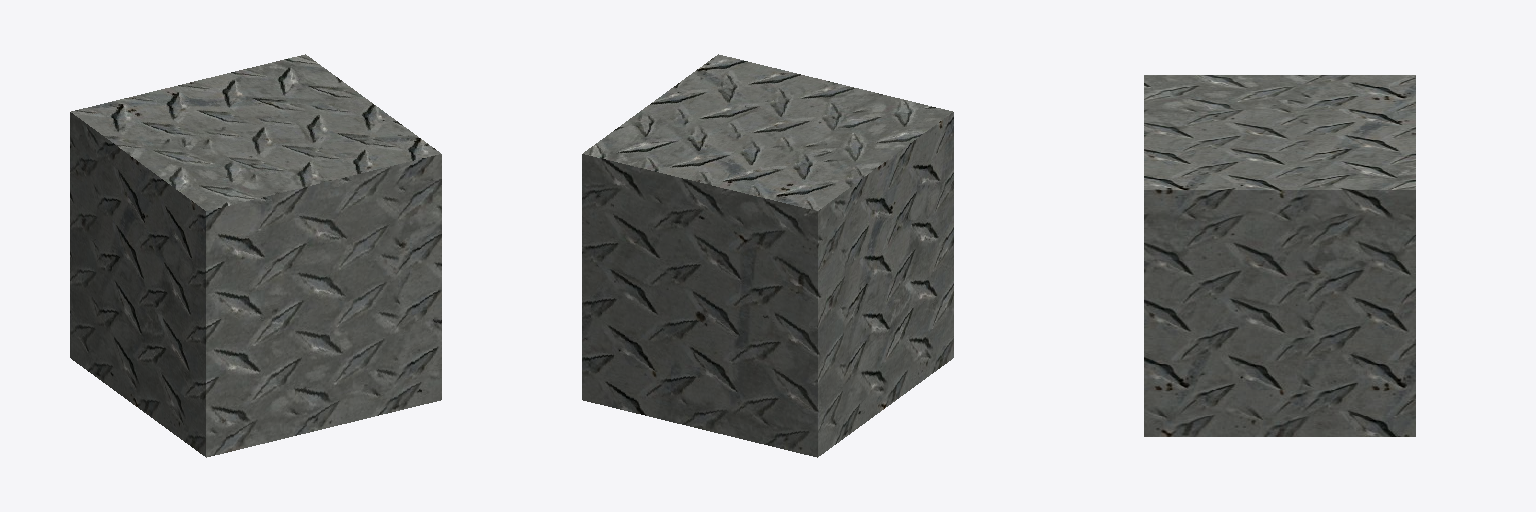
The picture shows the model from 3 angles: view 1: azimuth 30°, elevation 25°; view 2: azimuth 150°, elevation 25°; view 3: azimuth 270°, elevation 25°; orthographic projection.
Parts seen in each view (by area): view 1: Cube_Cube.002; view 2: Cube_Cube.002; view 3: Cube_Cube.002.
Boxes of the visible parts, box(x1,y1,x2,y2) form: Cube_Cube.002: box(70, 54, 441, 457); Cube_Cube.002: box(582, 54, 953, 457); Cube_Cube.002: box(1144, 75, 1415, 436).
Bounding box in the file's own units: 2 × 2 × 2.
1 materials, 1 textured.